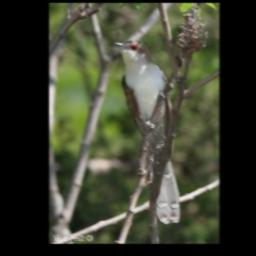Cuckoo: (109, 37, 184, 223)
